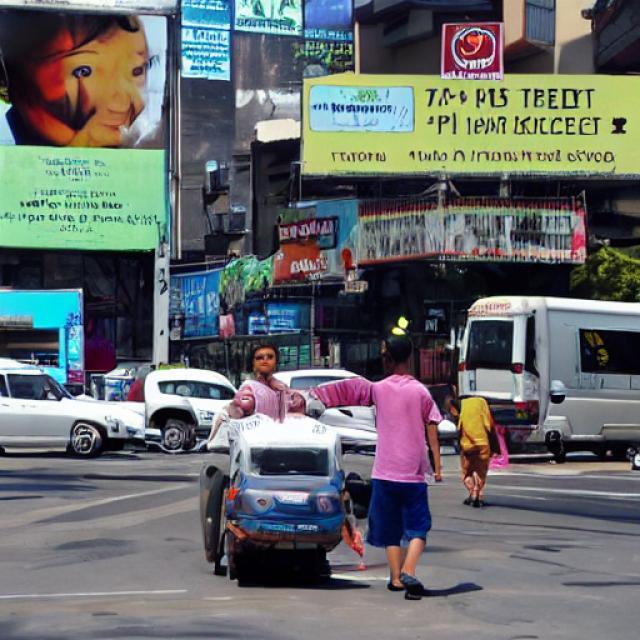Billboard: (0, 0, 174, 259), (296, 66, 640, 180)
